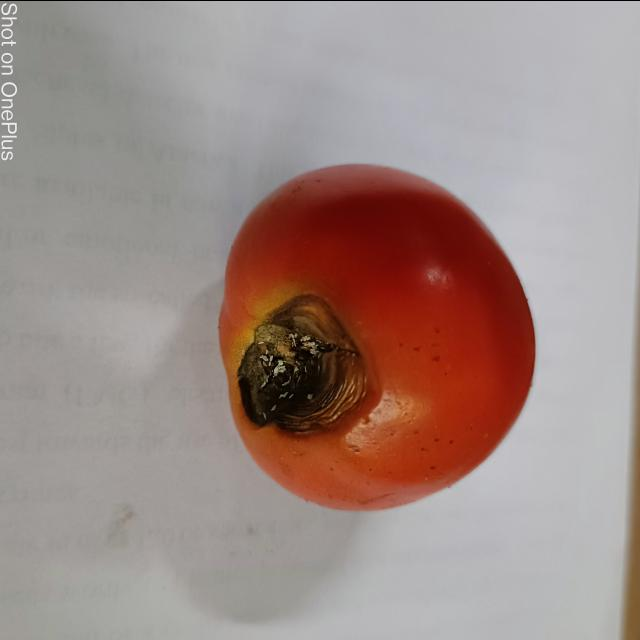Anthrocnose: (238, 292, 382, 432)
